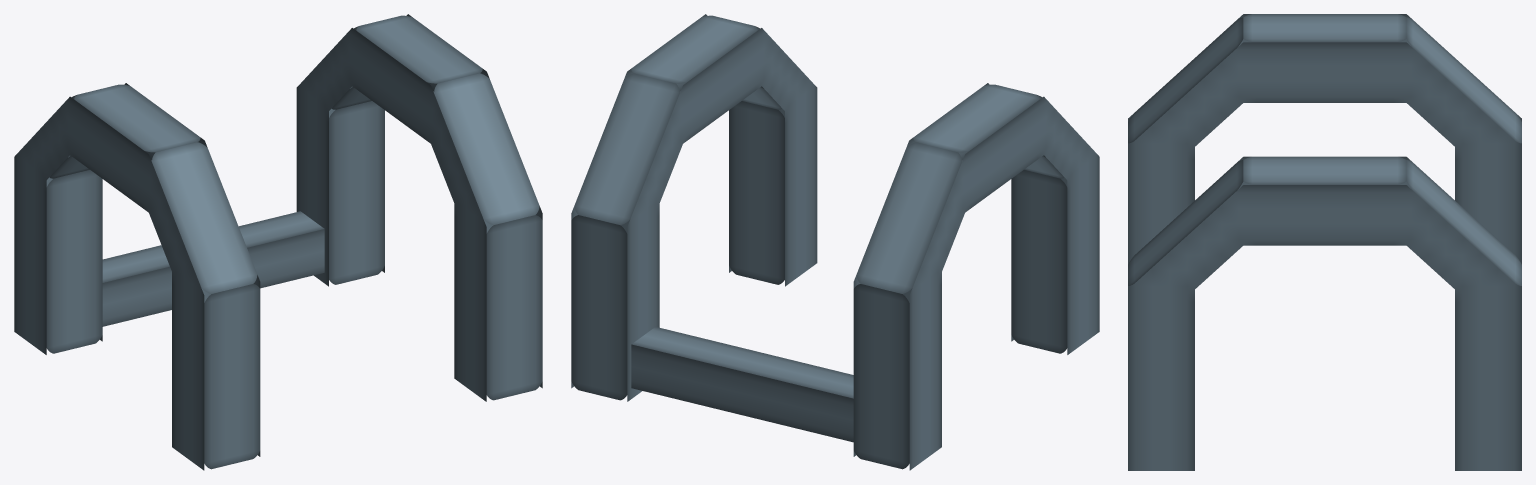
The model's file is Ladder_Head.fbx.
The picture shows the model from 3 angles, left to right: view 1: azimuth 30°, elevation 25°; view 2: azimuth 150°, elevation 25°; view 3: azimuth 270°, elevation 25°; orthographic projection. The views are drawn at different scales.
Parts seen in each view (by area): view 1: Cube.001; view 2: Cube.001; view 3: Cube.001.
Boxes of the visible parts, bbox=[...] form: Cube.001: bbox=[14, 14, 542, 470]; Cube.001: bbox=[571, 14, 1099, 470]; Cube.001: bbox=[1128, 14, 1521, 470].
Bounding box in the file's own units: 147 × 114 × 143.
Materials: 1 (1 with a texture image).
